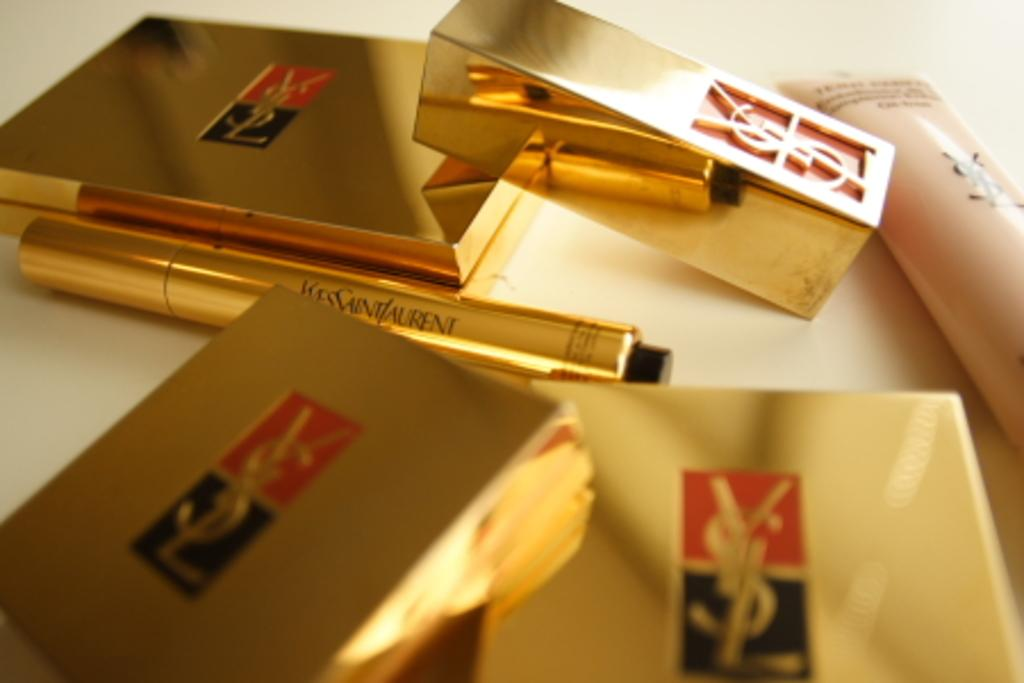pen: (14, 219, 676, 385)
